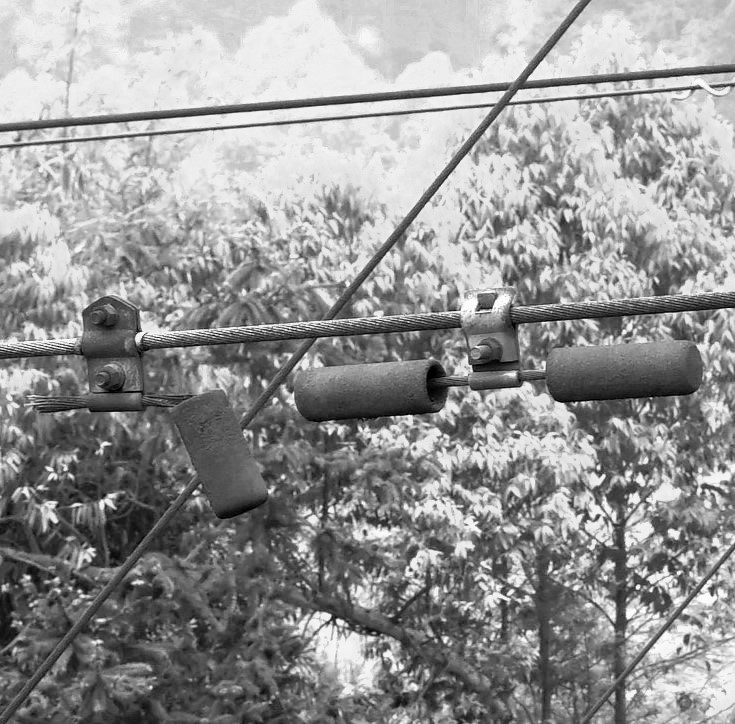Damage of shockproof hammer: (17, 288, 281, 525)
